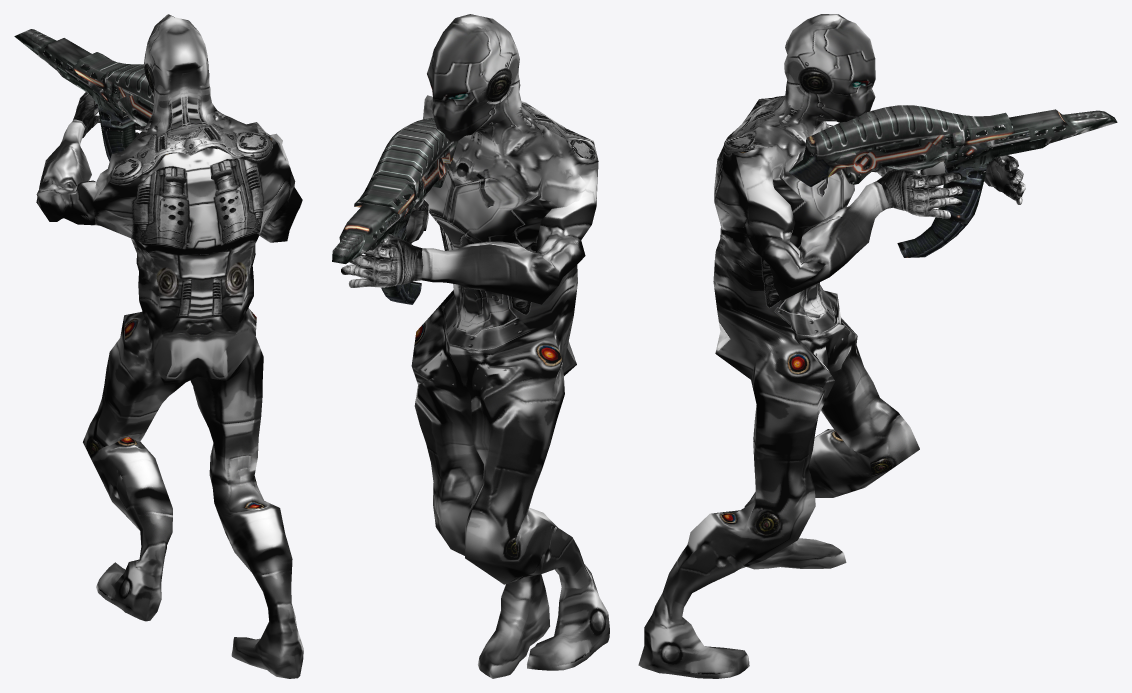
The model's file is Cycone_test.FBX.
The picture shows the model from 3 angles, left to right: view 1: azimuth 30°, elevation 25°; view 2: azimuth 150°, elevation 25°; view 3: azimuth 270°, elevation 25°; orthographic projection. The views are drawn at different scales.
Visible parts, largest first — view 1: clean_unwrap; view 2: clean_unwrap; view 3: clean_unwrap.
Boxes of the visible parts, x1,y1,x2,y2 form: clean_unwrap: (14,14,303,678); clean_unwrap: (332,14,609,678); clean_unwrap: (638,14,1117,678).
Size of the model in its own units: 23.85 by 66.71 by 45.2.
